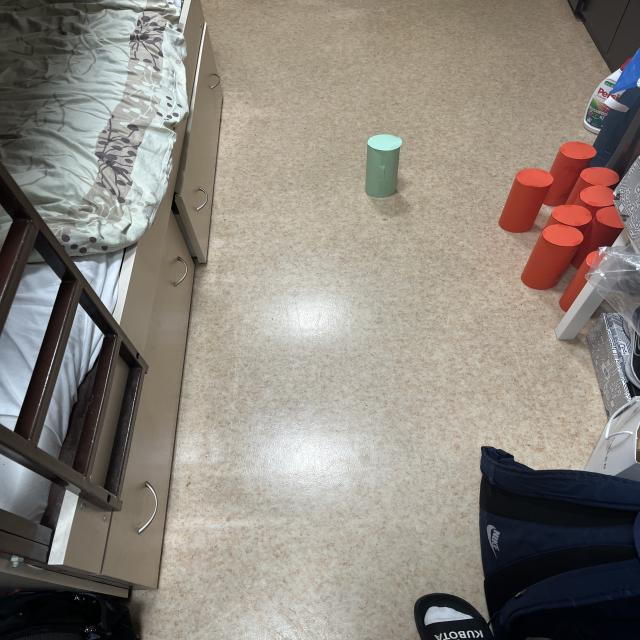meta: (365, 134, 402, 198)
